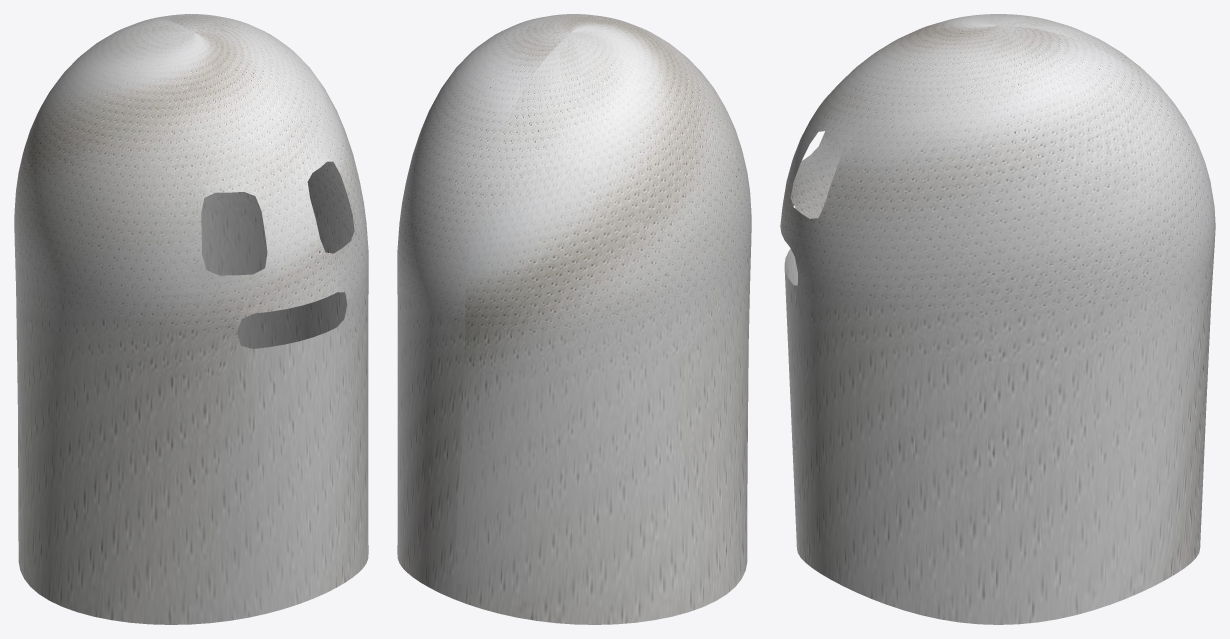
Rendered from Ghost Duck Animation.FBX.
3 views of the same model, side by side, from view 1: azimuth 30°, elevation 25°; view 2: azimuth 150°, elevation 25°; view 3: azimuth 270°, elevation 25° (orthographic). The views are drawn at different scales.
Parts seen in each view (by area): view 1: Sphere001; view 2: Sphere001; view 3: Sphere001.
Boxes of the visible parts, x1,y1,x2,y2 form: Sphere001: [14, 14, 368, 624]; Sphere001: [397, 14, 751, 624]; Sphere001: [780, 14, 1215, 624].
Size of the model in its own units: 280 by 479 by 351.
1 material, 1 textured.
